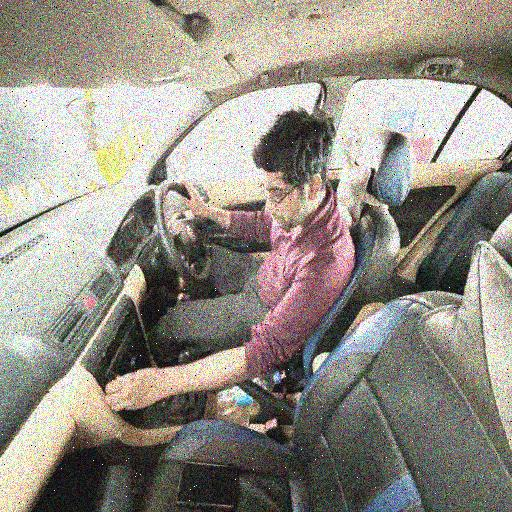operatingradio: (95, 107, 356, 417)
